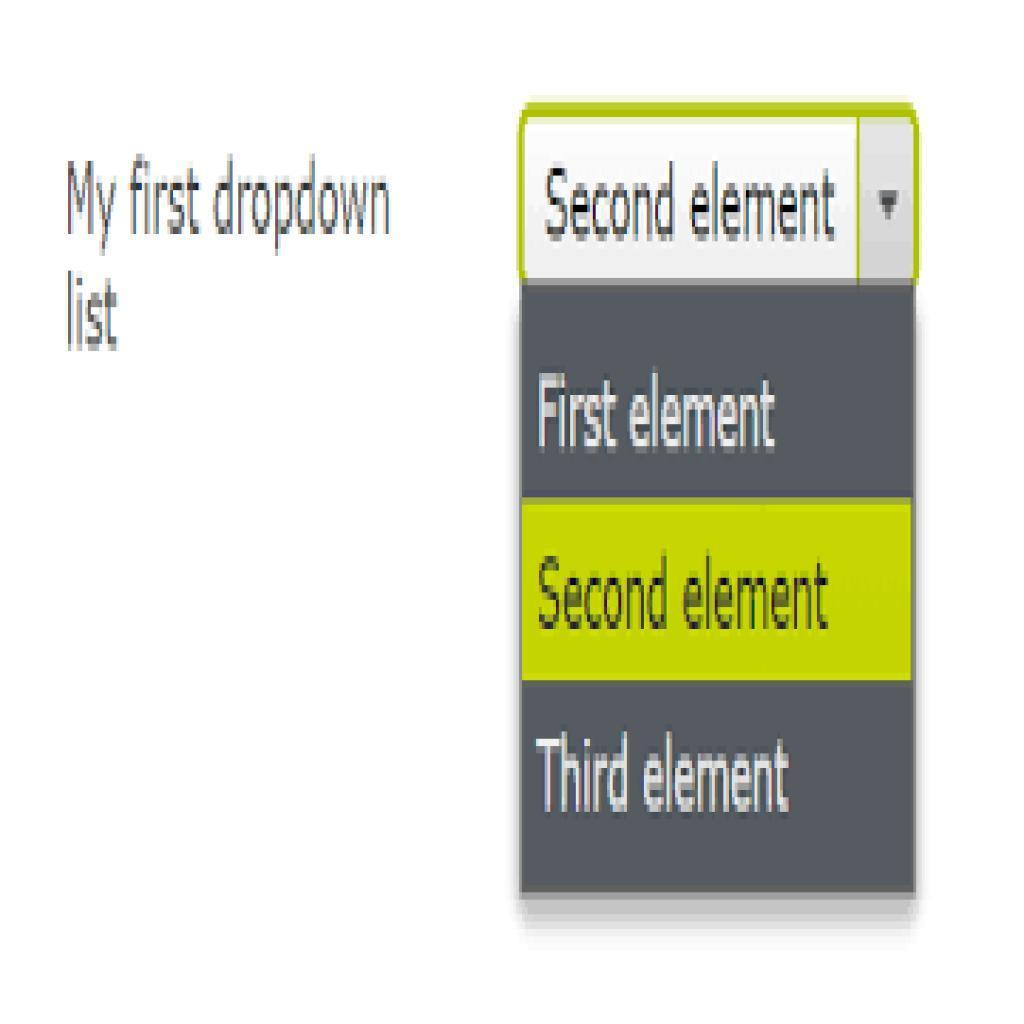dropdown: (522, 103, 920, 289)
